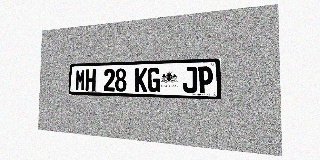2: (104, 69, 115, 91)
8: (115, 68, 127, 92)
G: (147, 67, 160, 92)
H: (85, 69, 96, 91)
J: (183, 67, 197, 93)
K: (135, 68, 147, 92)
M: (75, 69, 85, 91)
P: (198, 66, 213, 93)
